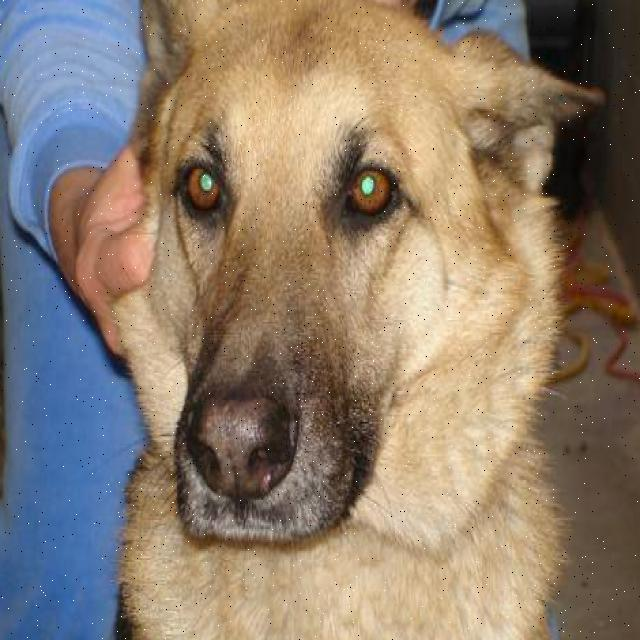Dog: (140, 0, 601, 582)
